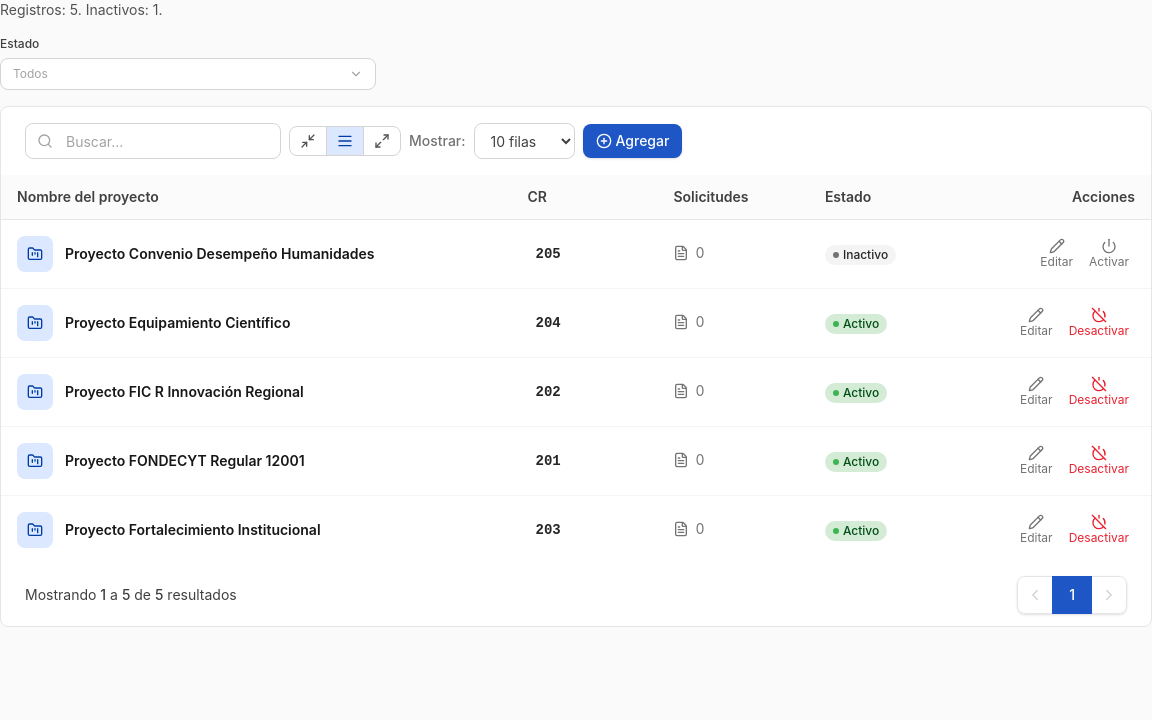
SeccionProyectos › permite activar un proyecto inactivo tras confirmacion
The width and height of the screenshot is (1152, 720).
Expected: the text "Proyecto Convenio Desempeño Humanidades" is shown, [65,245,374,262]
What coordinates should you click on to do the following:
click the button "Activar"
I would click on:
 (1109, 254)
Its box is [1083,232,1135,276].
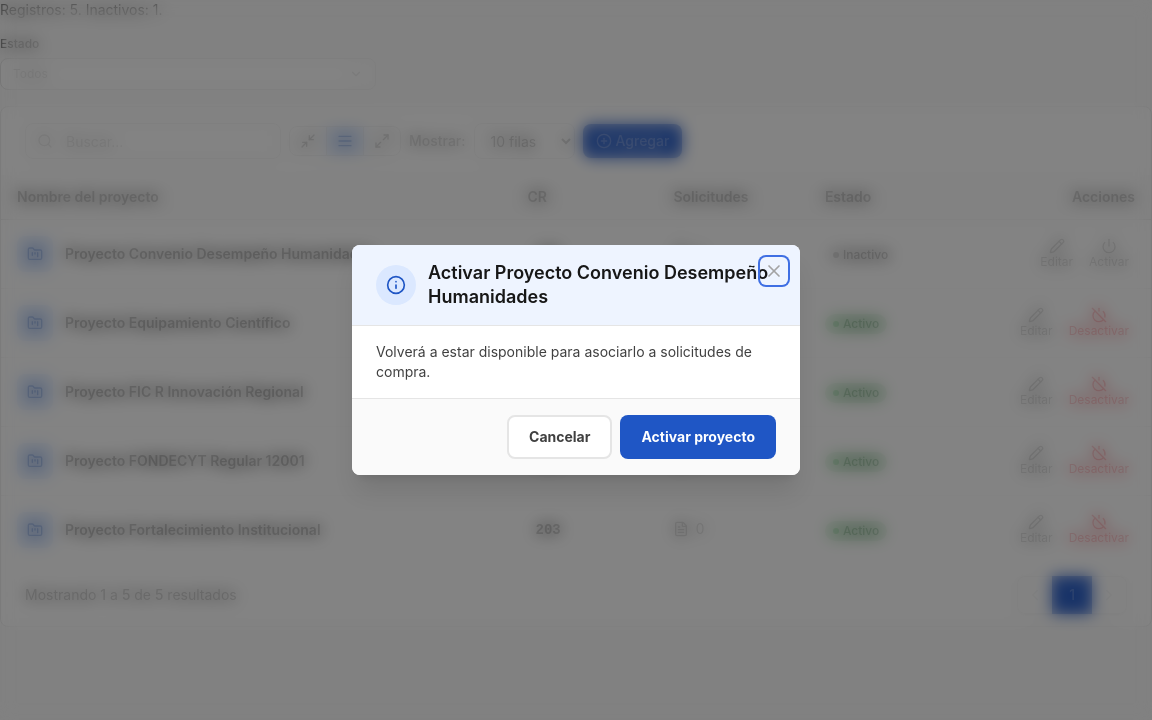
Now the heading "Activar Proyecto Convenio Desempeño Humanidades" is shown, box [428,261,776,309]
What coordinates should you click on to do the following:
click the button "Activar proyecto"
I would click on:
 (698, 437)
Its box is [620,415,776,459].
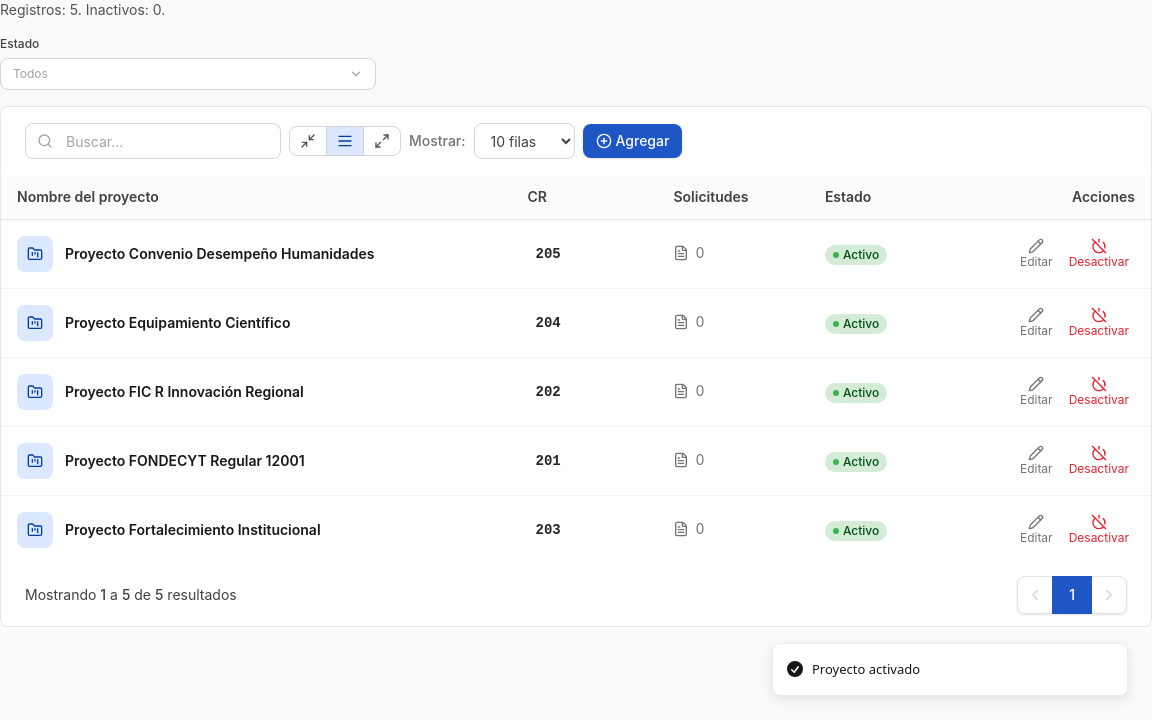
Now the text "Proyecto activado" is shown, box [812,660,920,679]
